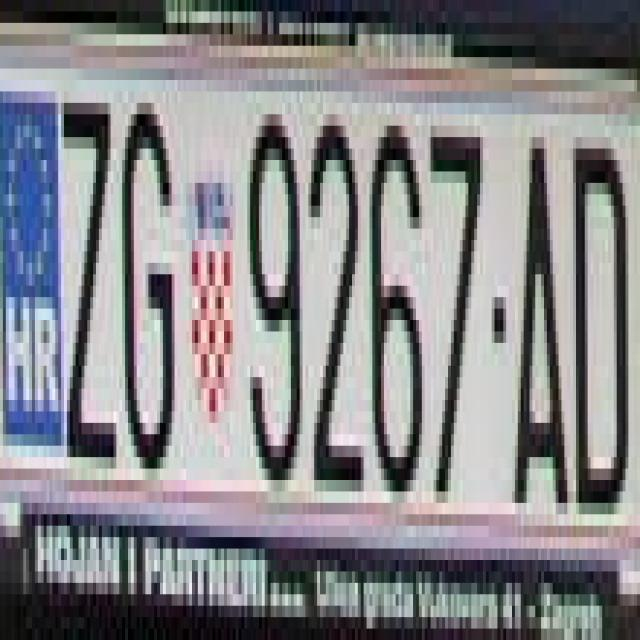2: (305, 102, 358, 492)
6: (366, 103, 424, 480)
7: (428, 126, 480, 503)
9: (245, 114, 302, 480)
A: (500, 125, 568, 526)
D: (570, 114, 628, 514)
G: (116, 91, 180, 480)
Z: (64, 103, 114, 446)
